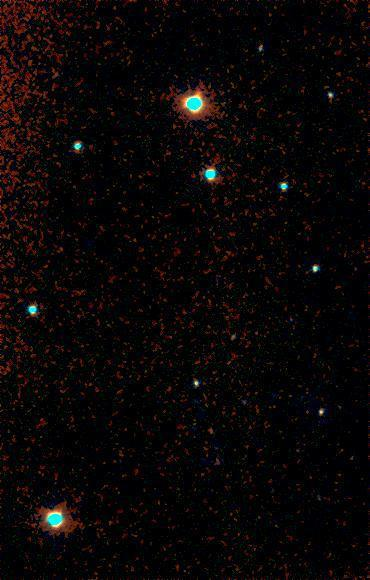star: (183, 80, 213, 110)
